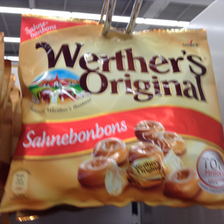candy: (16, 12, 221, 208)
